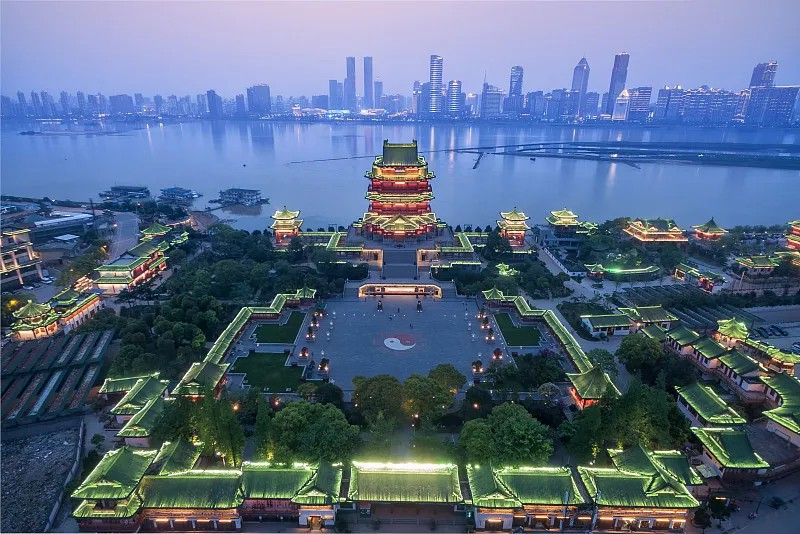Teng: (353, 139, 447, 241)
